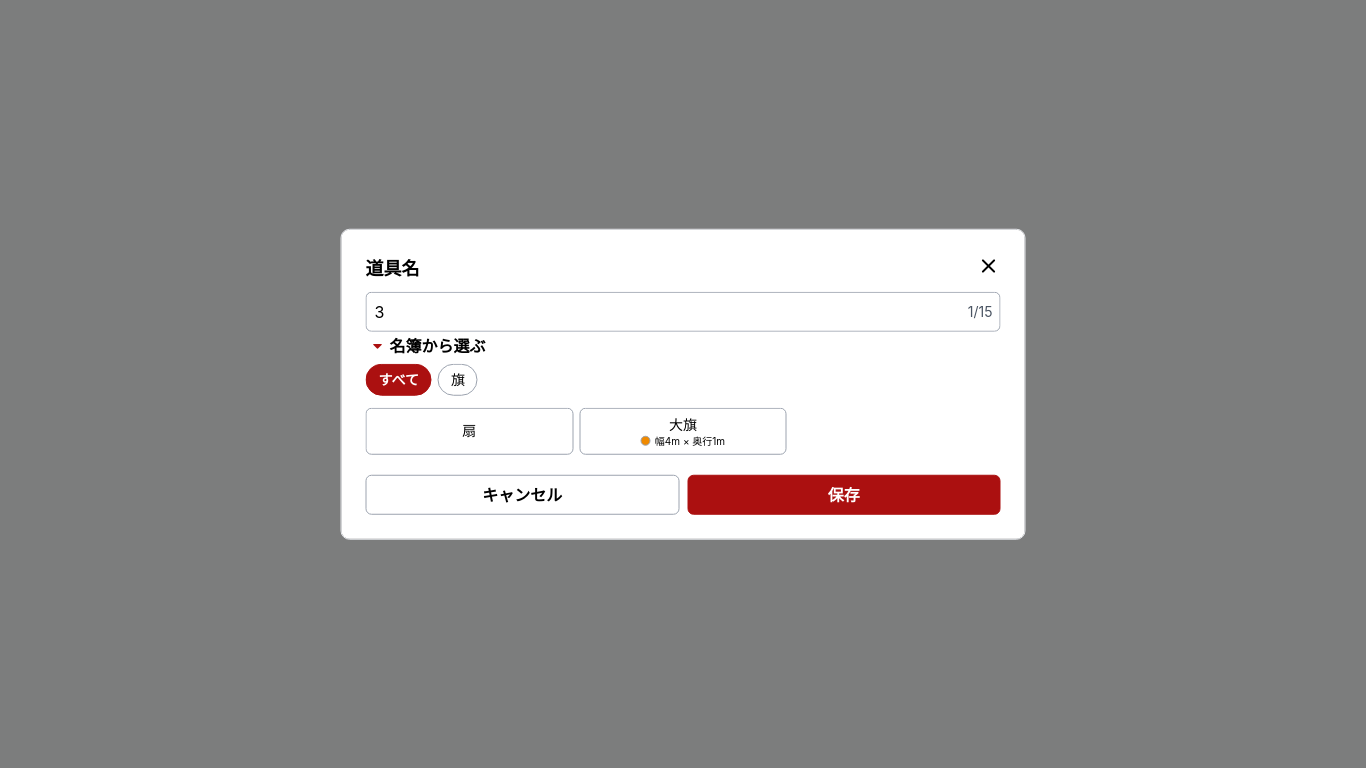
it: EditNameDialog for props › offers the picked name's size and colour, ticked, and submits them
This screenshot has width=1366, height=768.
Later steps or results of the test are not shown.
What coordinates should you click on to do the following:
click the button "大旗 幅4m × 奥行1m"
I would click on:
 (683, 431)
Its box is left=579, top=408, right=787, bottom=454.
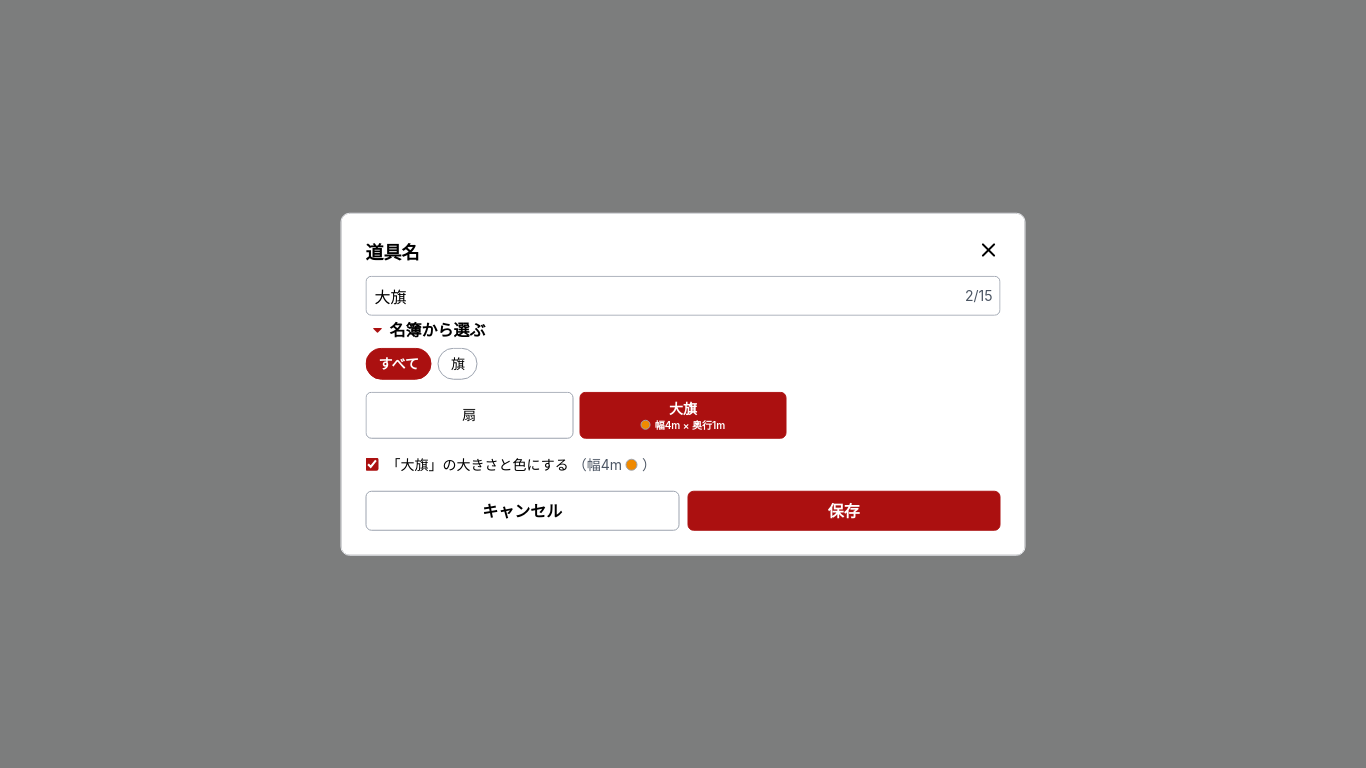
Expected: the field holds "大旗", left=366, top=276, right=1000, bottom=316
Expected: the checkbox is checked, left=366, top=458, right=378, bottom=471
Expected: the text "「大旗」の大きさと色にする （幅4m ）" is shown, left=386, top=454, right=656, bottom=474
